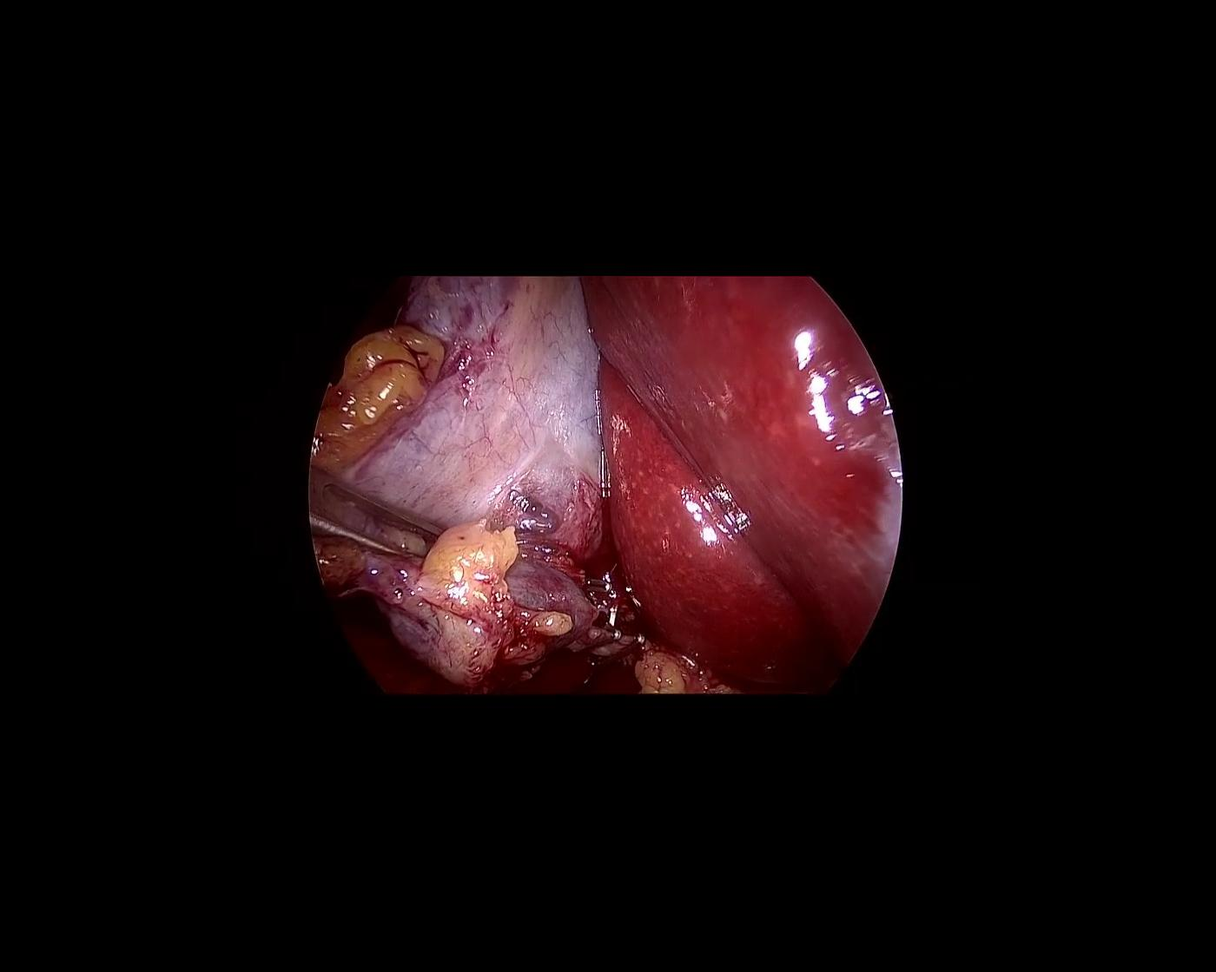Forceps: (285, 463, 447, 583)
Gallbladder: (328, 269, 615, 690)
Liver: (578, 265, 908, 701)
